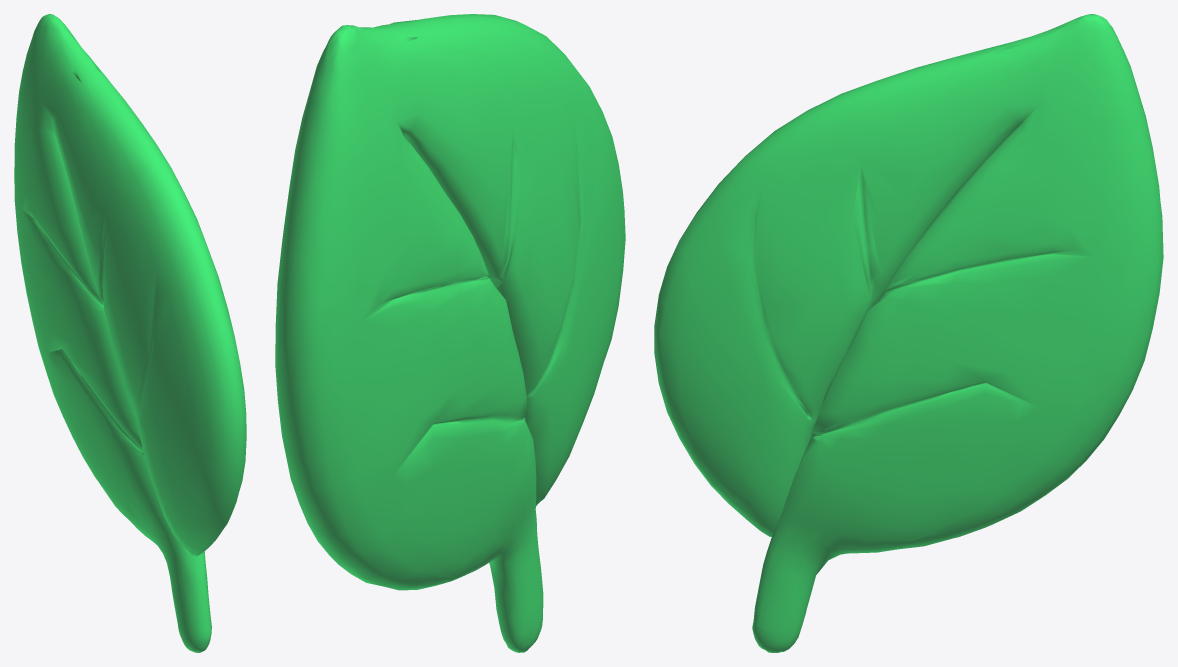
Rendered from leaf2.glb.
The picture shows the model from 3 angles, left to right: view 1: azimuth 30°, elevation 25°; view 2: azimuth 150°, elevation 25°; view 3: azimuth 270°, elevation 25°; orthographic projection. The views are drawn at different scales.
Visible parts, largest first — view 1: world; view 2: world; view 3: world.
Boxes of the visible parts, x1=… form: world: x1=14, y1=14, x2=246, y2=652; world: x1=275, y1=14, x2=625, y2=652; world: x1=654, y1=14, x2=1163, y2=652.
Size of the model in its own units: 0.1615 by 0.998 by 0.7301.
